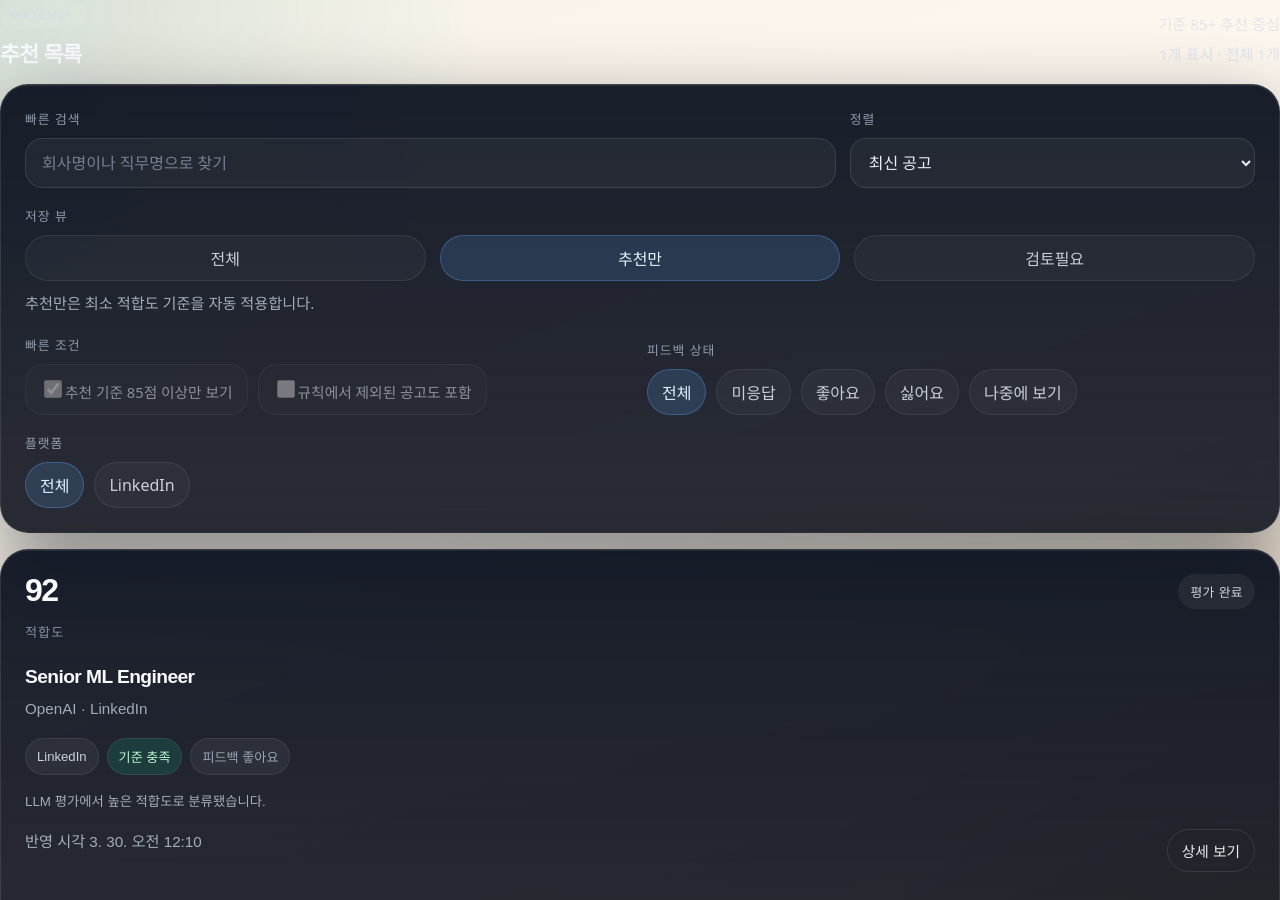
RecommendationBoard › opens a centered detail modal with structured explanation when a card is clicked
This screenshot has width=1280, height=900.
Click the button with aria-label "Senior ML Engineer 상세 보기" at (640, 723), box [25,574,1255,872]
(page scrolled)
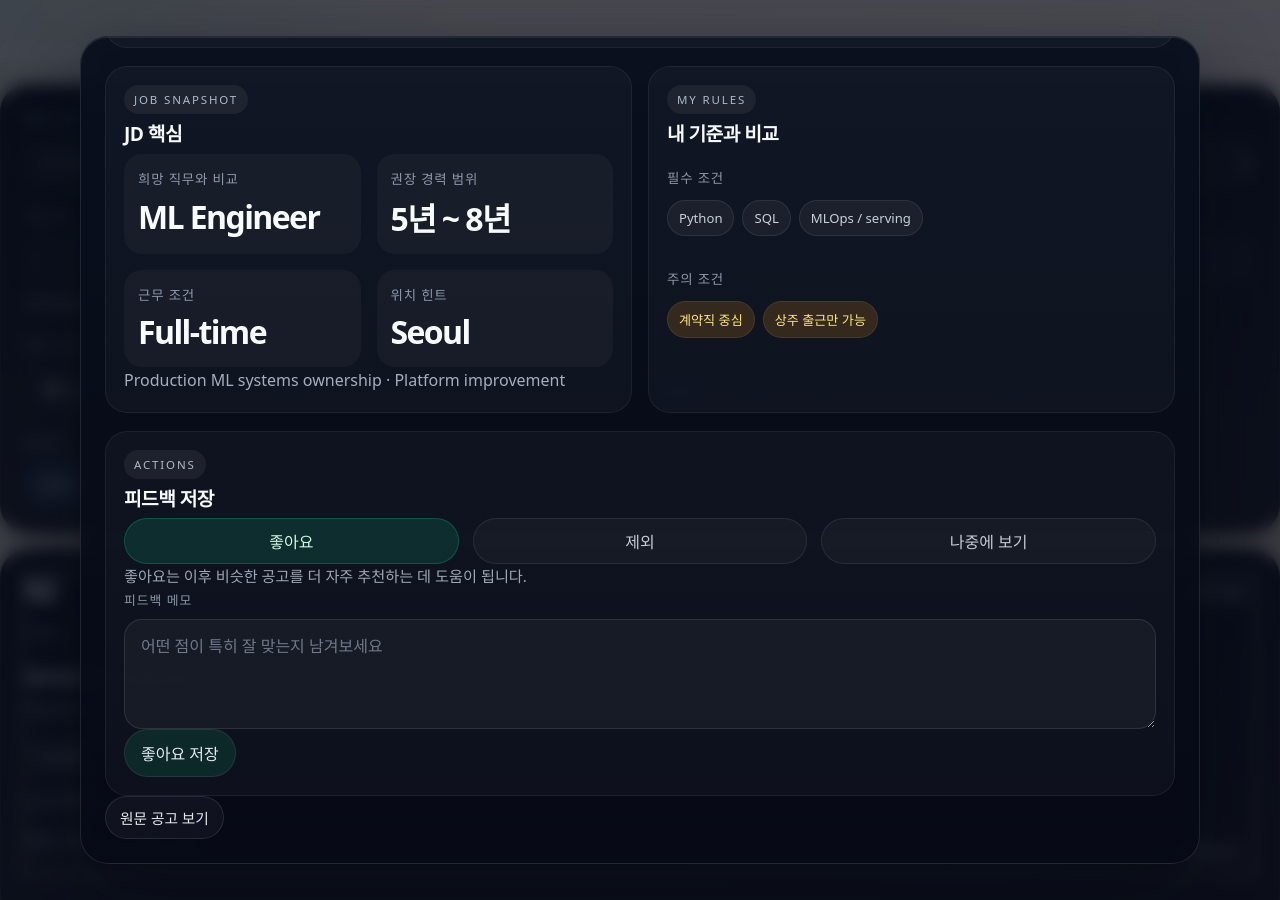
Expected: the dialog named "공고 상세 패널" is shown
Expected: the heading "피드백 저장" is shown, [124,485,214,512]
Expected: the heading "JD 핵심" is shown, [124,120,182,148]
